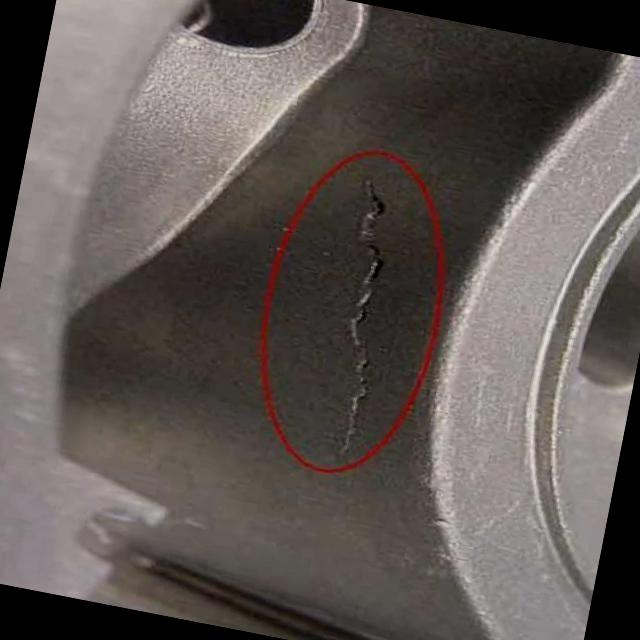defect: (333, 171, 393, 464)
